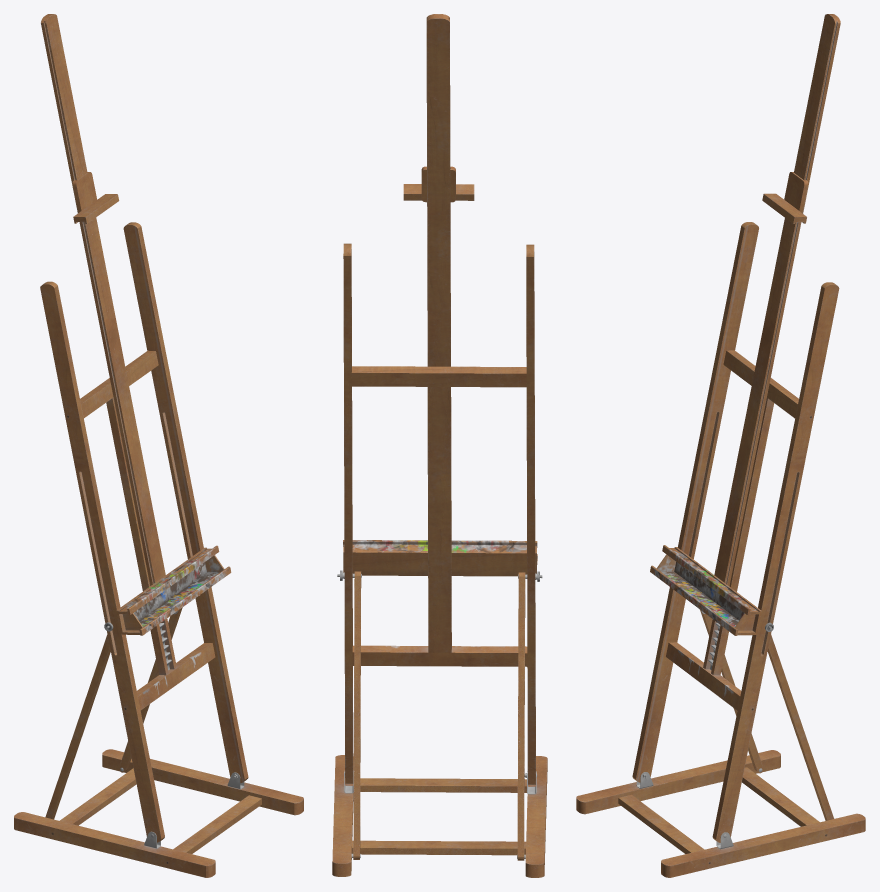
File: Easel2_SM.fbx
The picture shows the model from 3 angles, left to right: view 1: azimuth 30°, elevation 25°; view 2: azimuth 150°, elevation 25°; view 3: azimuth 270°, elevation 25°; orthographic projection. The views are drawn at different scales.
Visible parts, largest first — view 1: Easel2_SM; view 2: Easel2_SM; view 3: Easel2_SM.
Boxes of the visible parts, <box> form: Easel2_SM: <box>14,14,303,877</box>; Easel2_SM: <box>332,14,547,877</box>; Easel2_SM: <box>576,14,865,877</box>.
Bounding box in the file's own units: 81.87 × 256 × 86.28.
